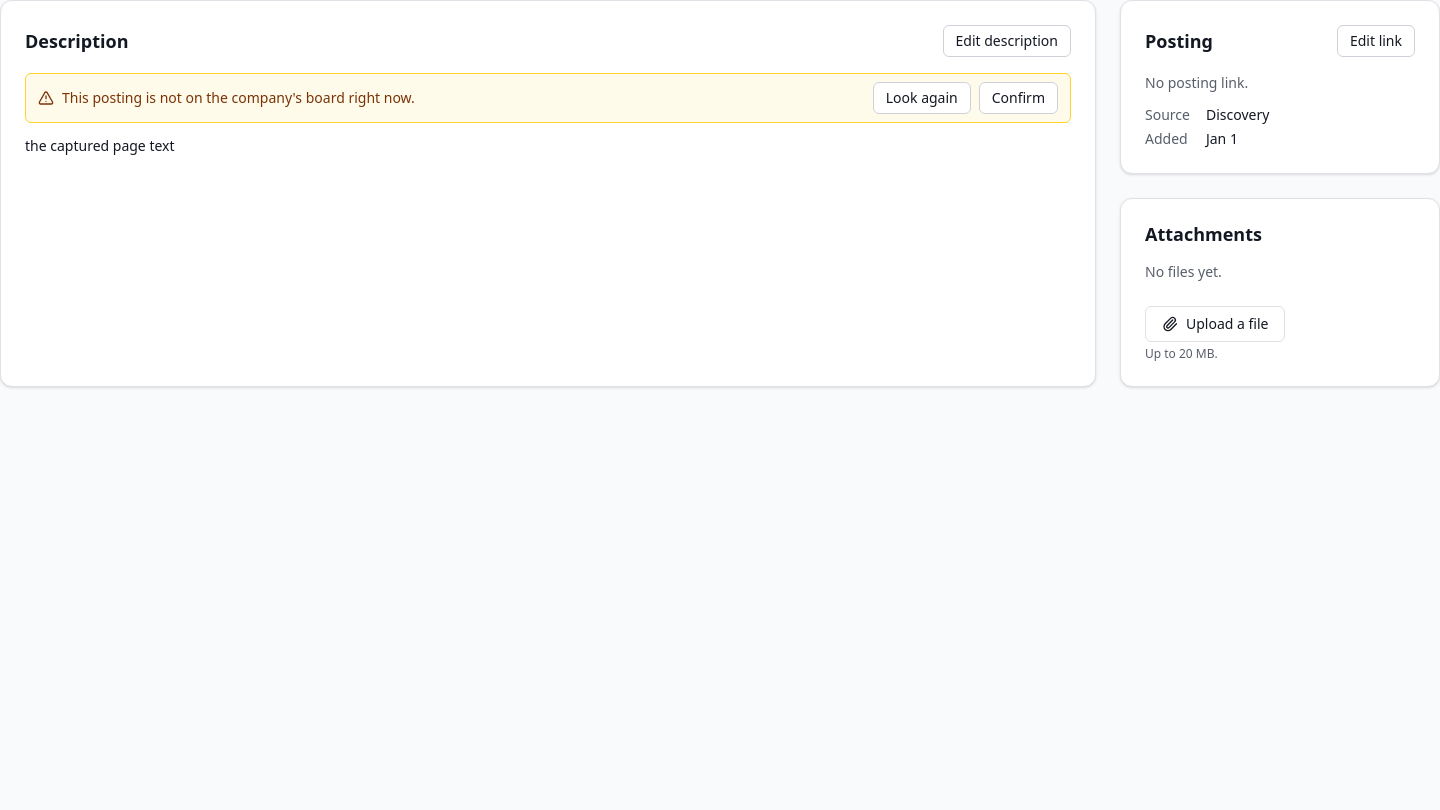
it: the Description card keeps a way to look the posting up › confirms a flagged posting from the banner (issue #250)
This screenshot has width=1440, height=810.
Click the button "Confirm" at [1018, 98], box [979,82,1058,114]
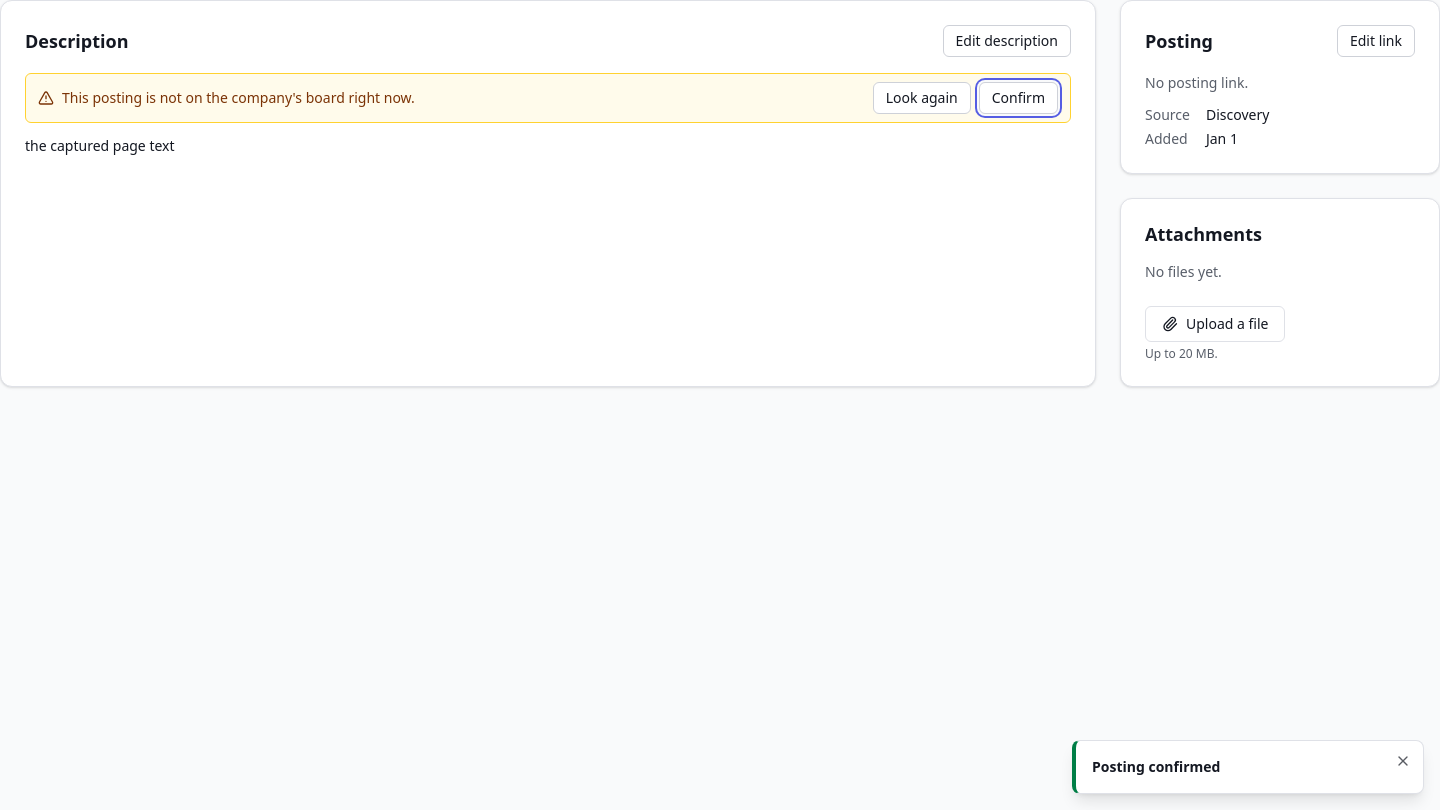
Expected: the text "Posting confirmed" is shown, [1092,757,1220,776]
